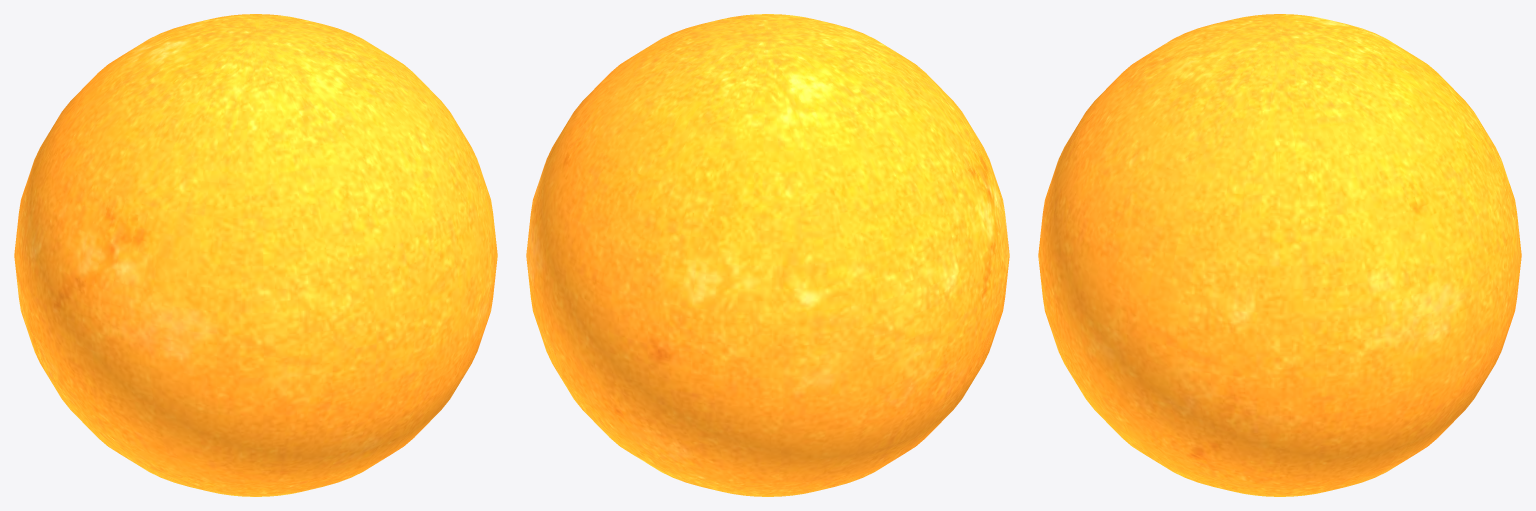
File: sun.glb
3 views of the same model, side by side, from view 1: azimuth 30°, elevation 25°; view 2: azimuth 150°, elevation 25°; view 3: azimuth 270°, elevation 25° (orthographic).
Visible parts, largest first — view 1: Sun; view 2: Sun; view 3: Sun.
Boxes of the visible parts, x1,y1,x2,y2 form: Sun: (14, 14, 497, 496); Sun: (526, 14, 1009, 496); Sun: (1038, 14, 1521, 496).
Bounding box in the file's own units: 6960 × 6960 × 6960.
Materials: 1 (1 with a texture image).
